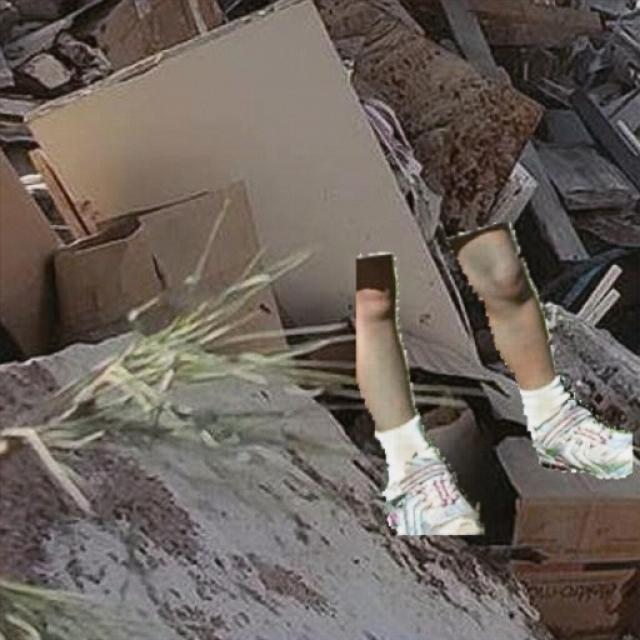Person in Rubble: (356, 222, 632, 534)
